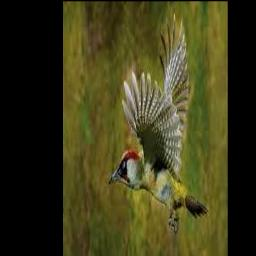Woodpecker: (108, 13, 209, 233)
